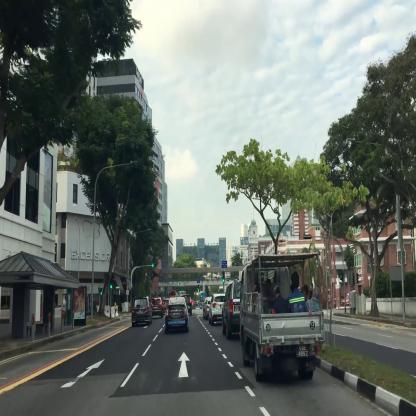green_traffic_light: (222, 271, 225, 282), (151, 263, 157, 267), (110, 276, 112, 288)
